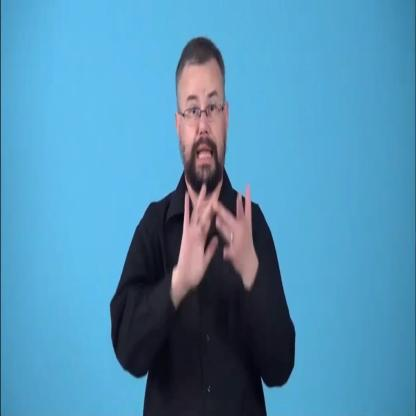Internet: (172, 164, 261, 301)
